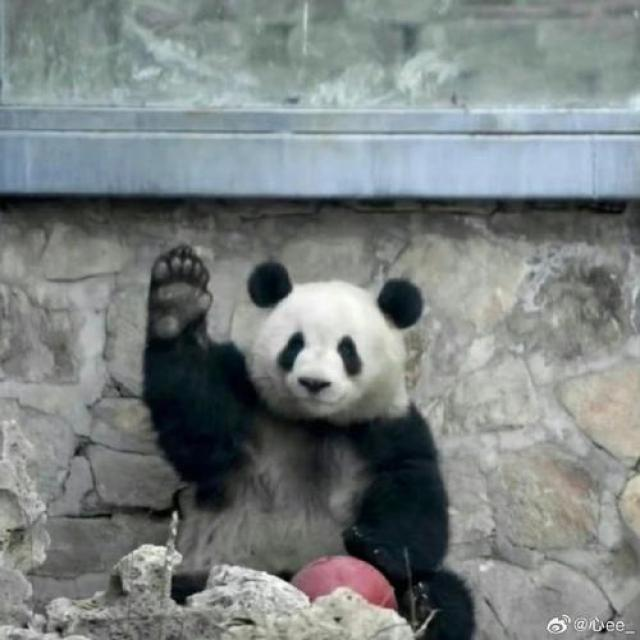panda: (73, 230, 513, 640)
